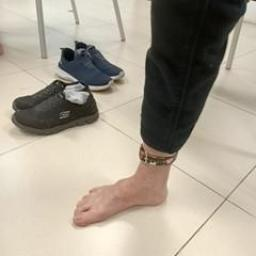Medial View -Right Foot-: (61, 141, 194, 232)
